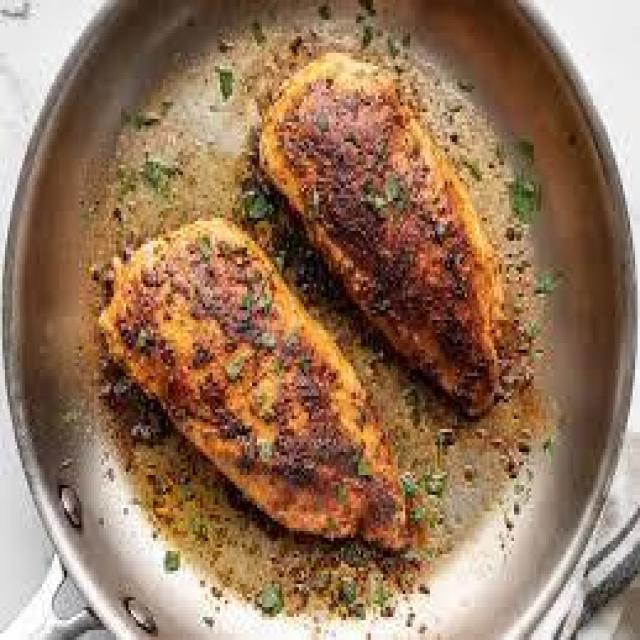Frango: (95, 32, 522, 600)
